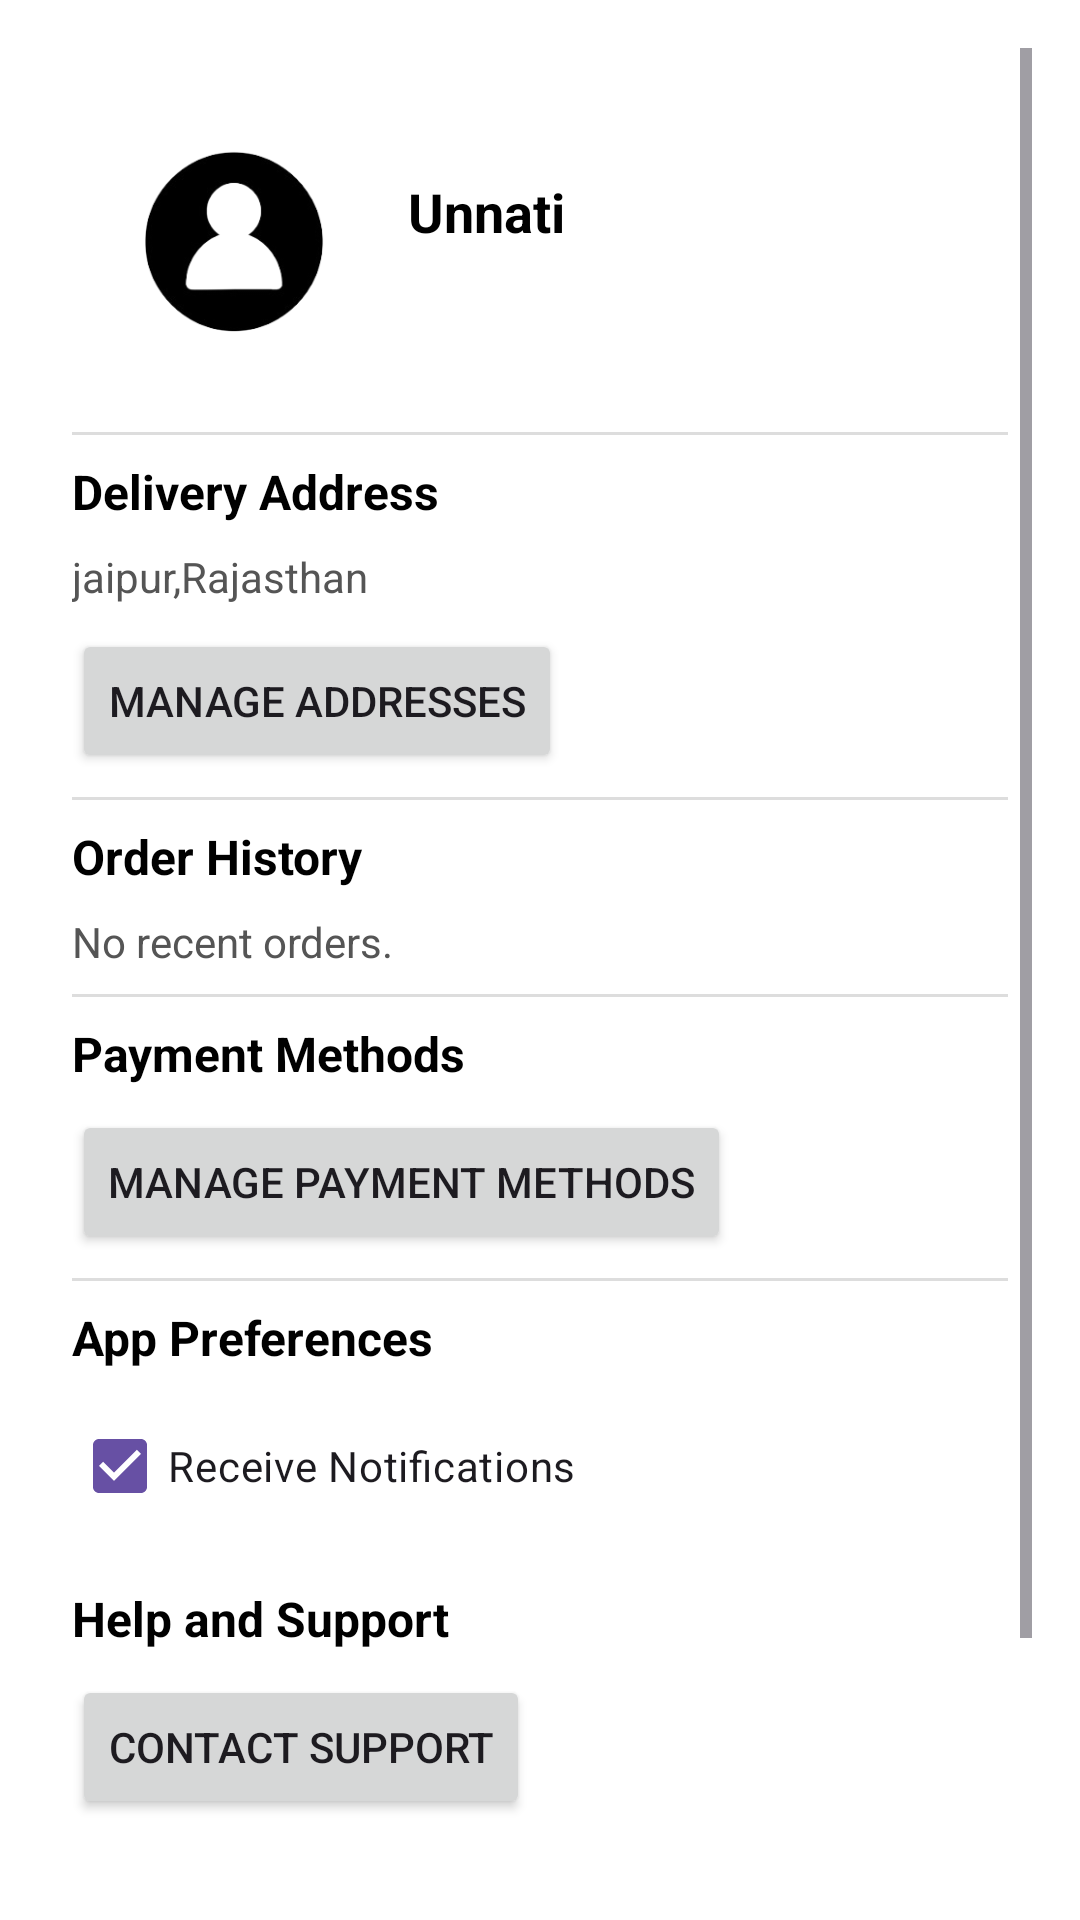

Icon click points for this 1080x1920 phone screenshot, format [x,y]:
Profile Picture: [234,242]
